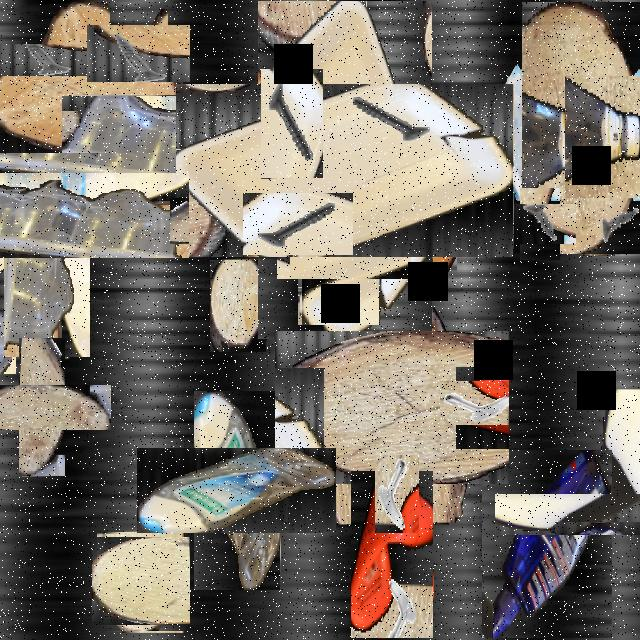glass: (495, 51, 579, 201)
metal: (261, 70, 323, 180), (99, 13, 179, 94), (306, 270, 370, 334), (375, 455, 419, 533), (512, 196, 568, 252), (0, 270, 16, 374)
plastic: (217, 42, 473, 298), (0, 122, 139, 307), (482, 450, 612, 638), (0, 72, 112, 254), (166, 419, 308, 562), (351, 471, 433, 638), (546, 441, 640, 586), (565, 76, 640, 198)
wood: (295, 310, 489, 504), (522, 2, 640, 254), (11, 23, 162, 174), (288, 176, 400, 290), (94, 535, 188, 628), (0, 360, 88, 453), (210, 260, 266, 352), (415, 183, 457, 272)
